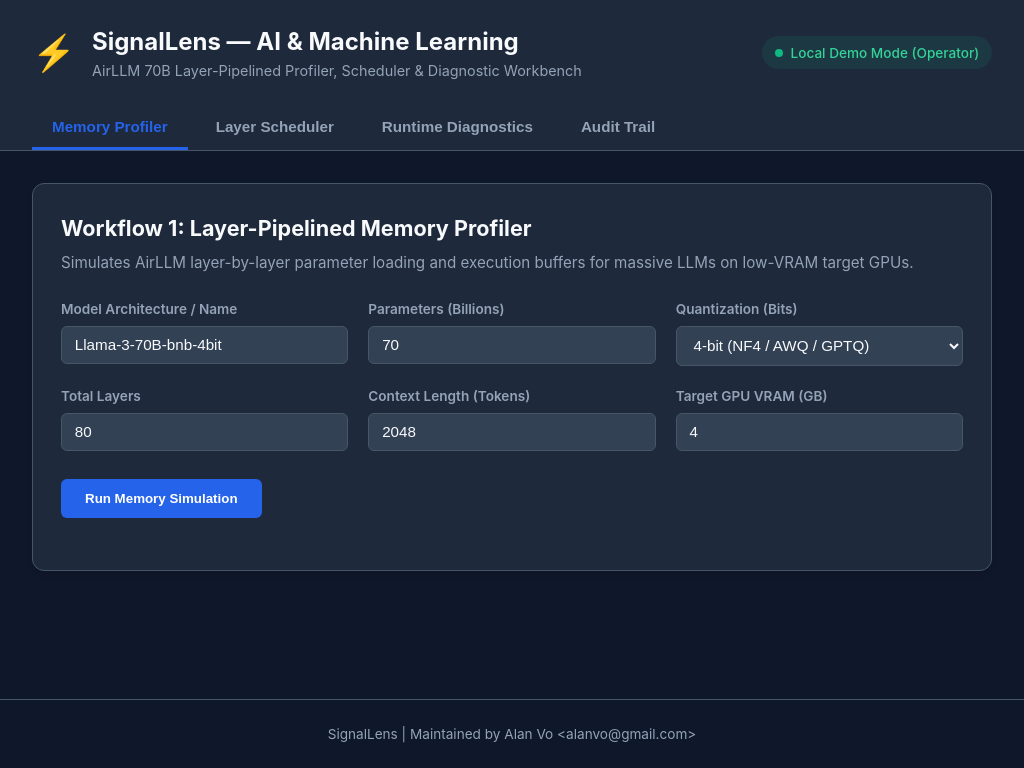
Test: SignalLens Frontend Integration Tests › switches to Layer Scheduler and executes batch optimization
This screenshot has width=1024, height=768.
Click the button "Layer Scheduler" at (275, 128), box 196,106 -> 354,150
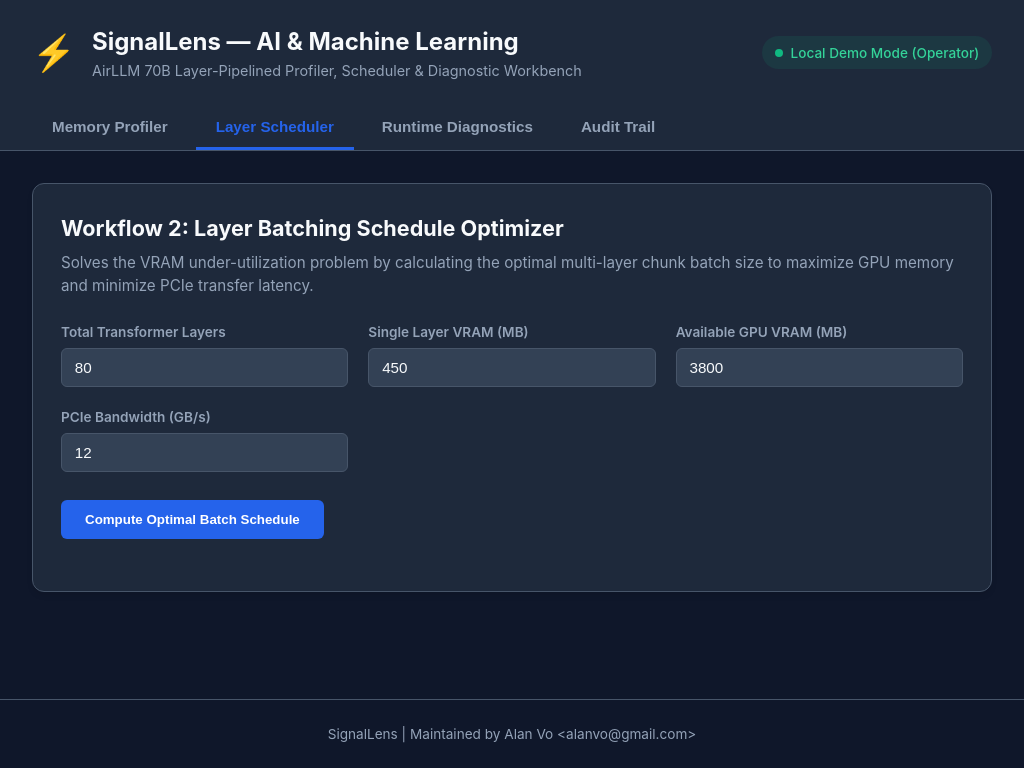
Click the button "Compute Optimal Batch Schedule" at (192, 519), box 61,500 -> 324,538
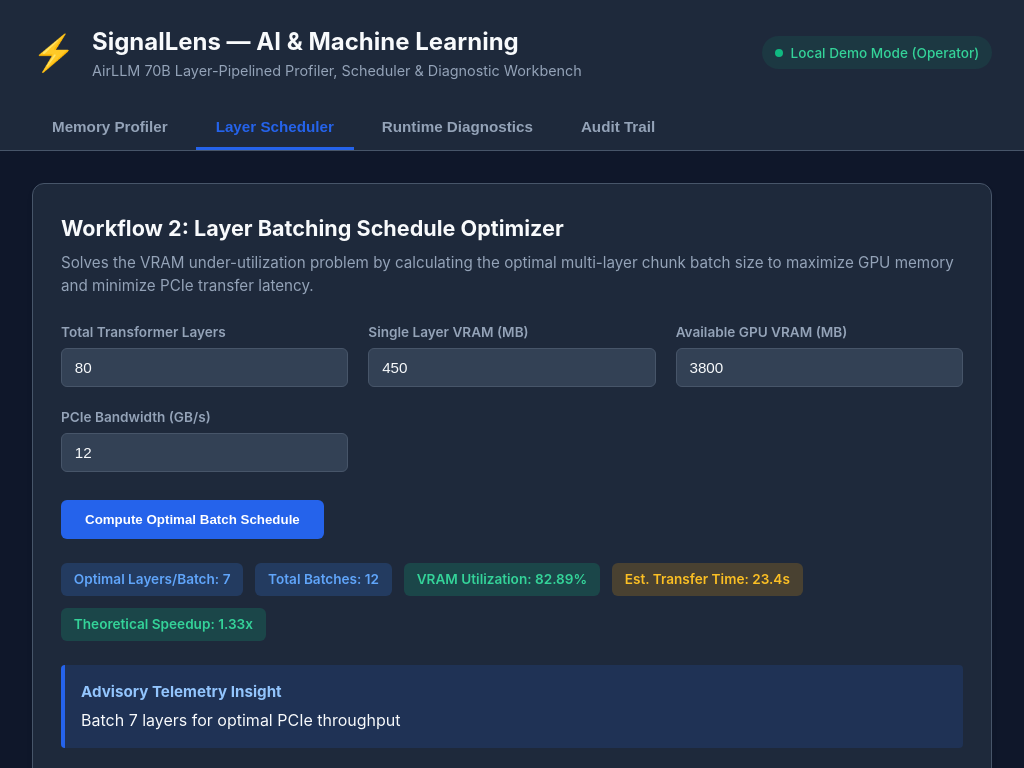
expect the text "Optimal Layers/Batch: 7" is shown: met, box 61,562 -> 243,596
expect the text "Theoretical Speedup: 1.33x" is shown: met, box 61,608 -> 266,641
